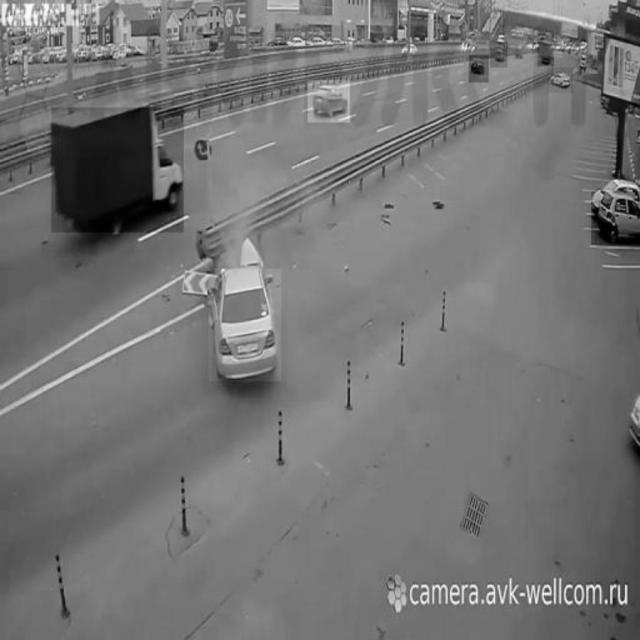vehicle: (51, 108, 183, 232), (210, 269, 282, 381), (591, 191, 640, 245), (308, 81, 350, 123), (548, 67, 573, 92), (469, 56, 489, 83), (538, 34, 554, 66), (491, 41, 508, 67)
